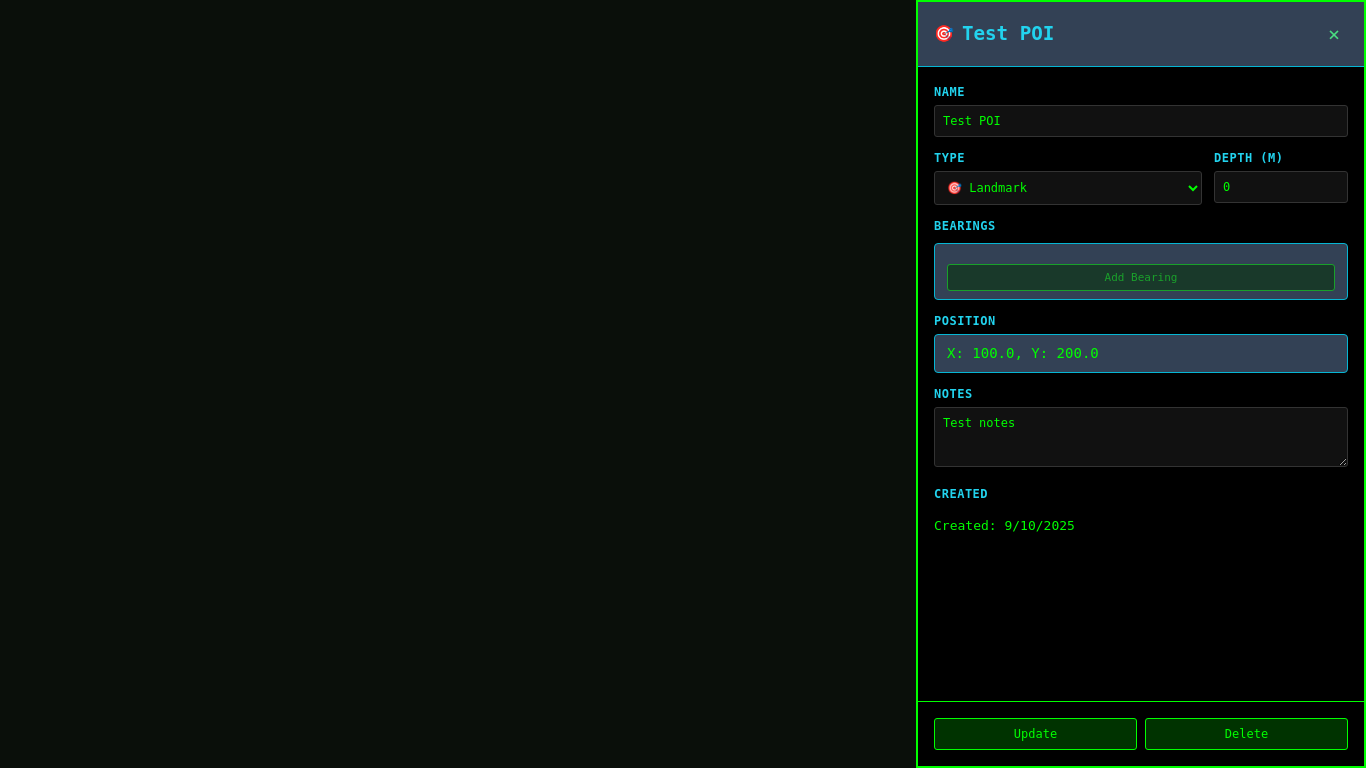
Test case: POIDetailsSidebar Delete Functionality › should show confirmation dialog when delete button is clicked
The width and height of the screenshot is (1366, 768).
Click the button "Delete": (1246,734) [1145,718,1348,750]
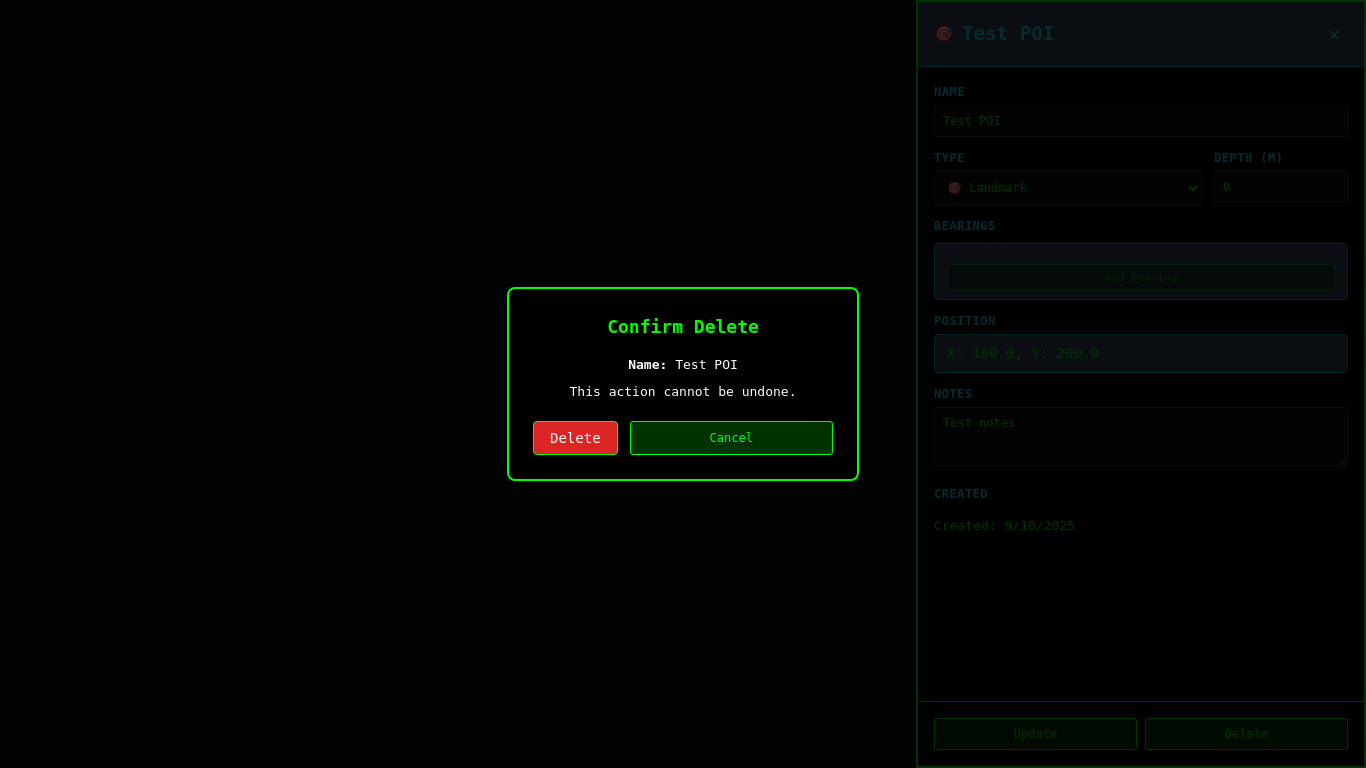
Now the heading "Confirm Delete" is shown, box [607,316,759,337]
Now the text "This action cannot be undone." is shown, box [570,384,796,398]
